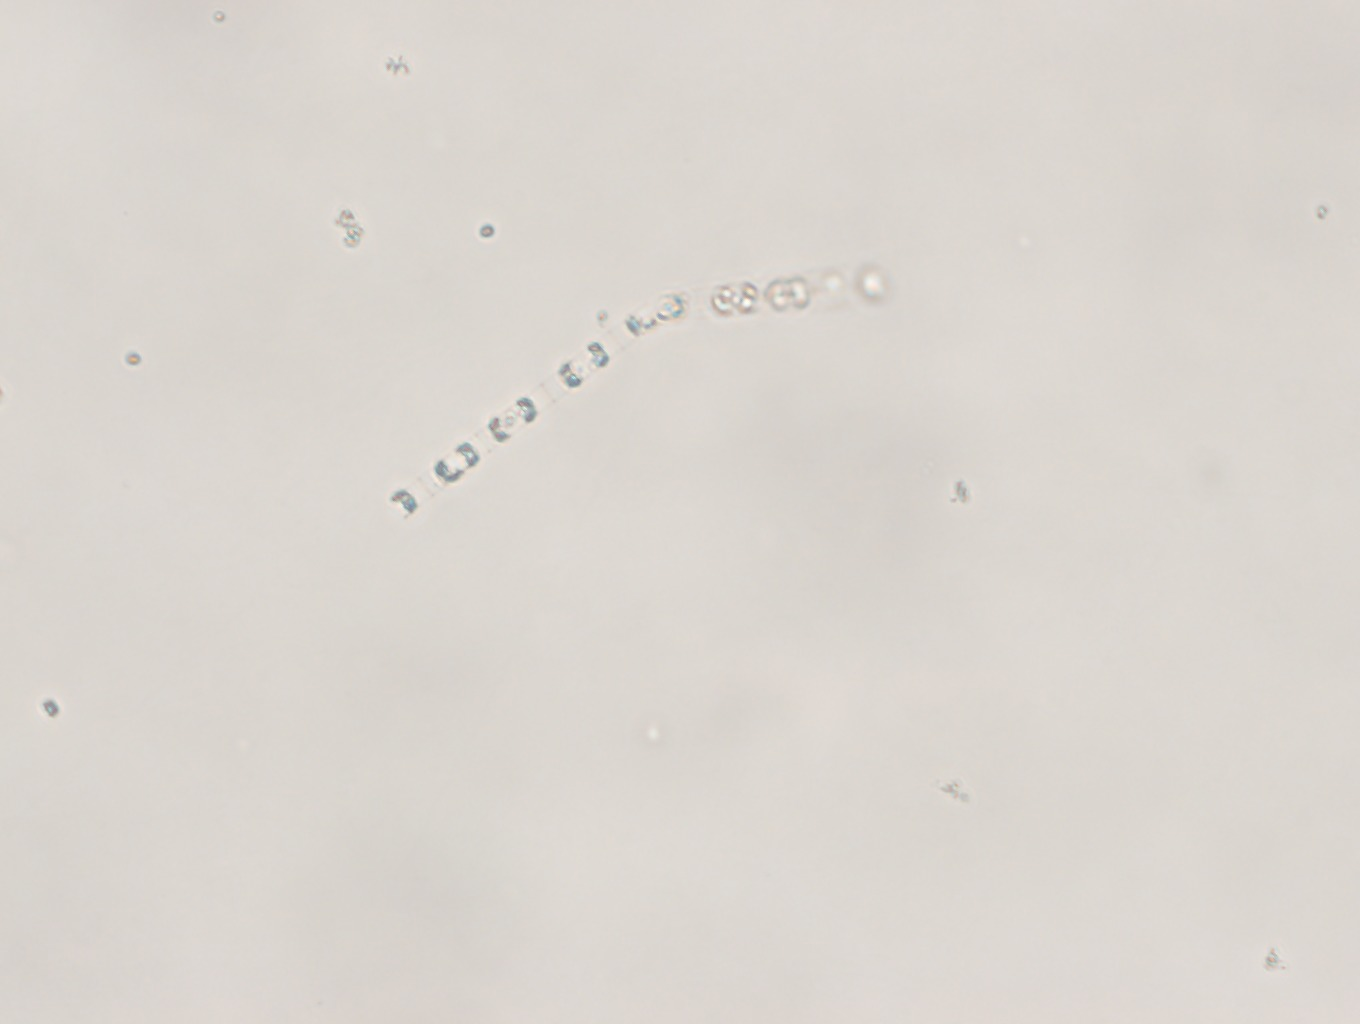skeletonema: (364, 256, 930, 525)
